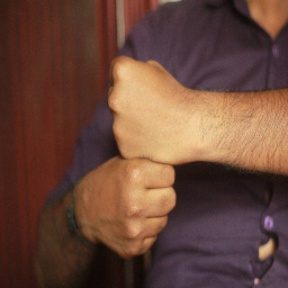G: (77, 51, 193, 259)
